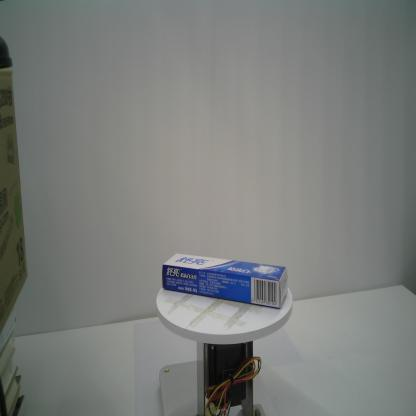Personal Hygiene: (162, 252, 288, 310)
